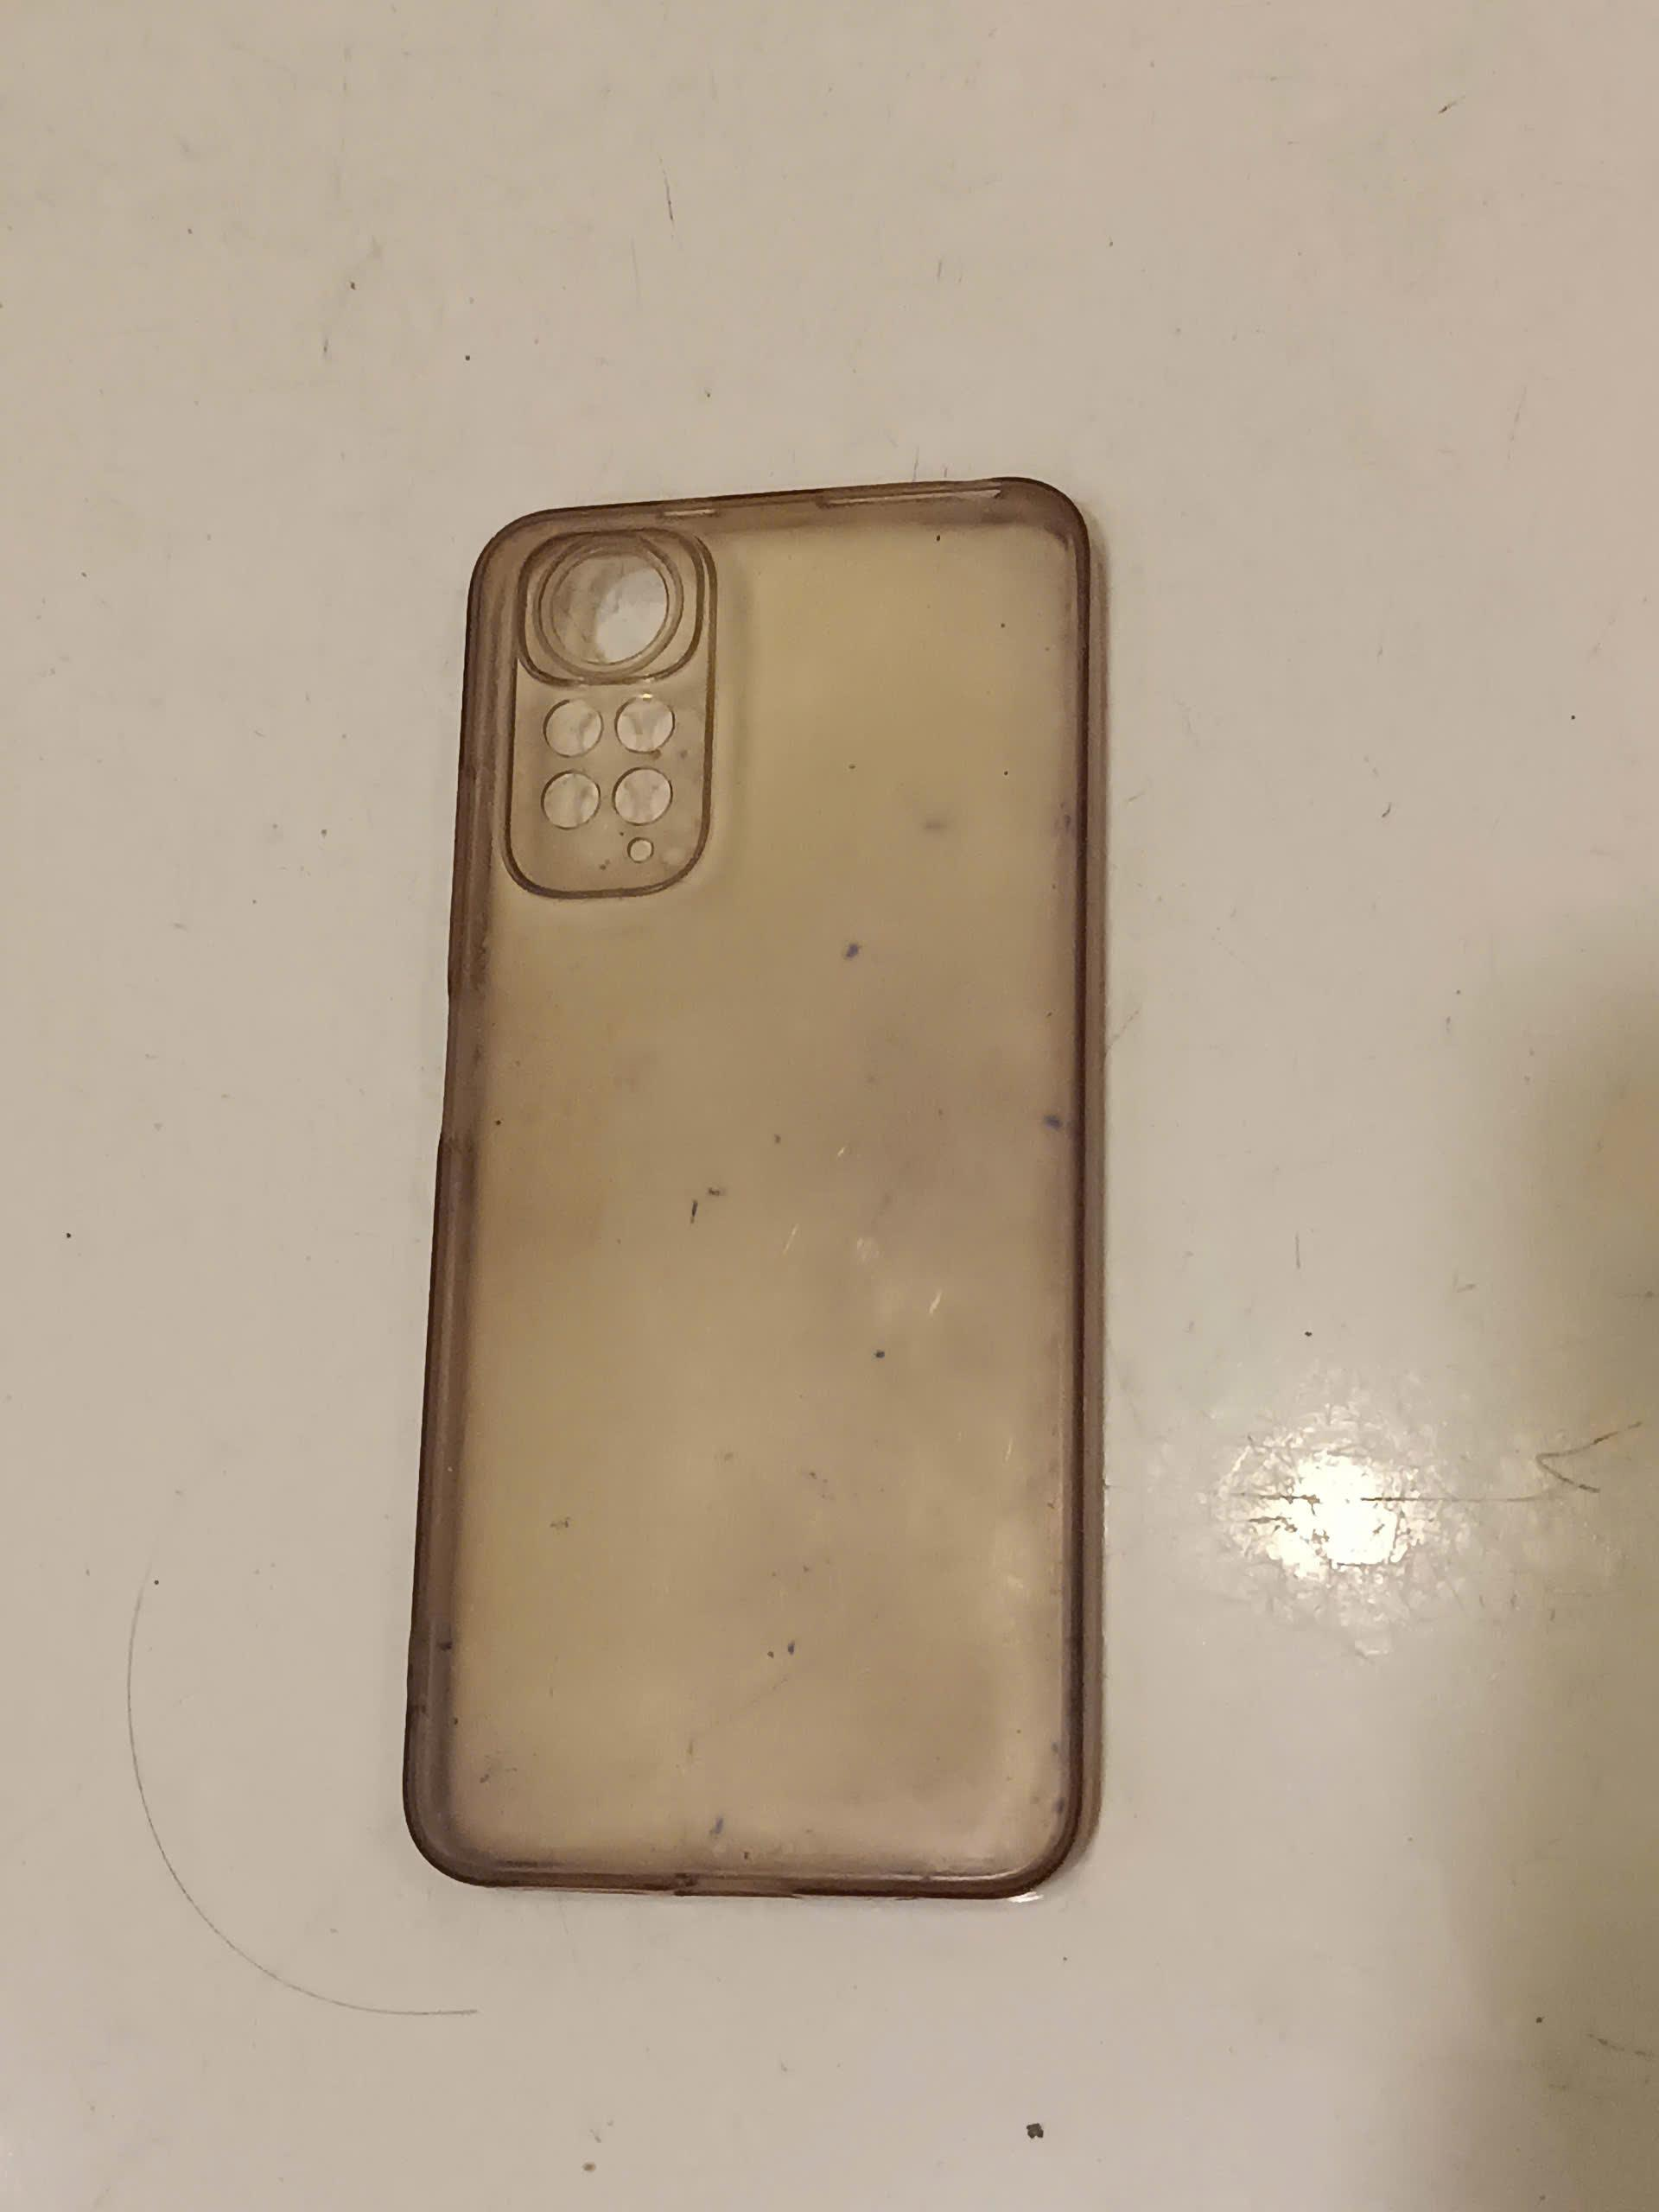Vo co: (397, 467, 1100, 1905)
